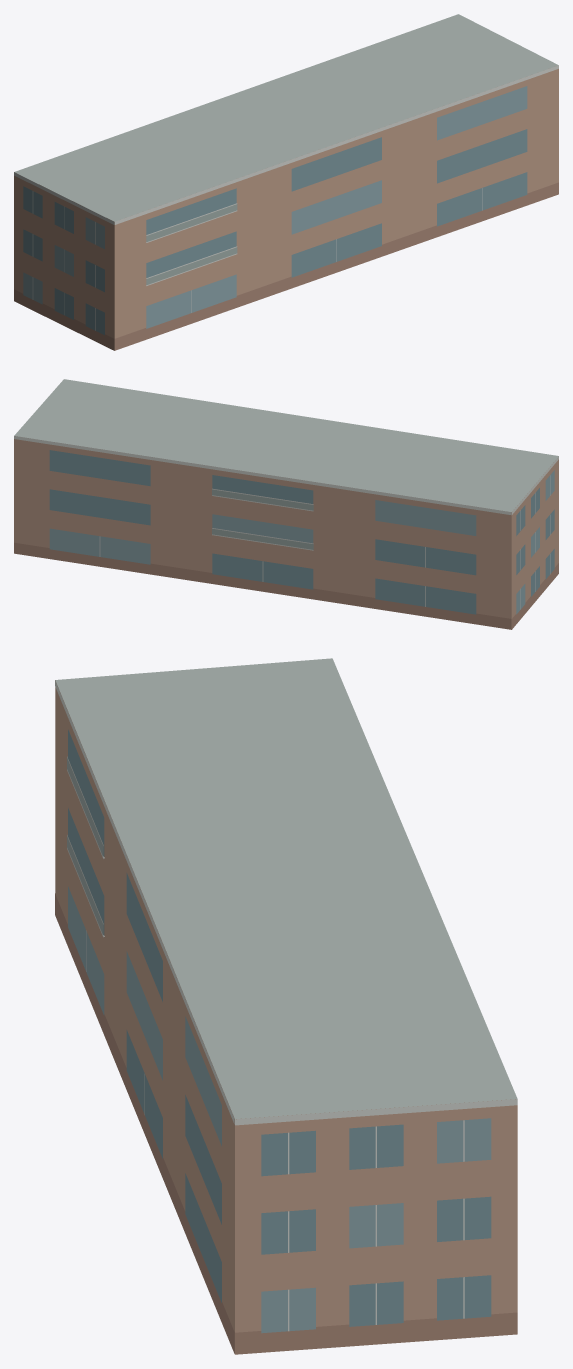
File: survey-upis-32753551.glb
3 renders of one model, top to bottom at view 1: azimuth 30°, elevation 25°; view 2: azimuth 150°, elevation 25°; view 3: azimuth 270°, elevation 25°, orthographic. The views are drawn at different scales.
Parts seen in each view (by area): view 1: survey-upis-32753551.tmp; view 2: survey-upis-32753551.tmp; view 3: survey-upis-32753551.tmp.
Boxes of the visible parts, <box> form: survey-upis-32753551.tmp: <box>14,14,558,350</box>; survey-upis-32753551.tmp: <box>14,379,558,629</box>; survey-upis-32753551.tmp: <box>55,658,517,1354</box>.
Size of the model in its own units: 38.43 by 9.15 by 16.3.
